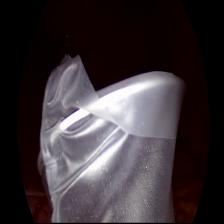Specimen Bag: (33, 47, 186, 224)
